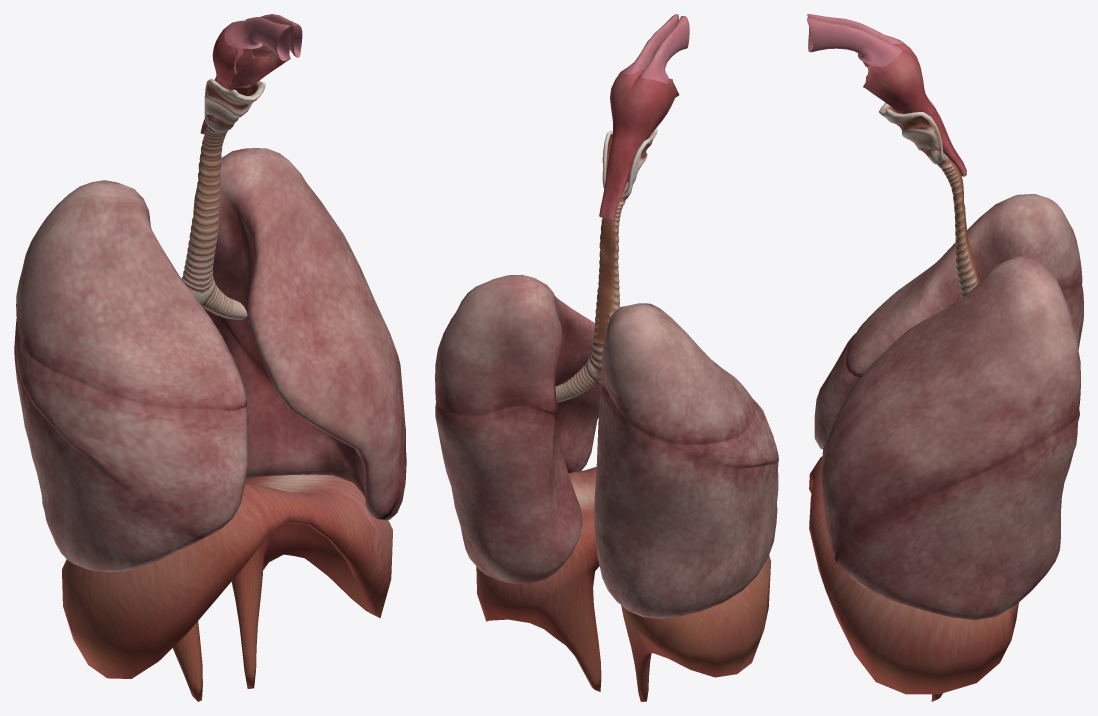
File: A Female_Respiratory_System.fbx
The picture shows the model from 3 angles, left to right: view 1: azimuth 30°, elevation 25°; view 2: azimuth 150°, elevation 25°; view 3: azimuth 270°, elevation 25°; orthographic projection. The views are drawn at different scales.
Parts seen in each view (by area): view 1: Left_Superior_Lobe, Right_Superior_Lobe, Diaphragm, Middle_Lobe, Right_Inferior_Lobe, Left_Inferior_Lobe, Teacheal, Pharynx, Right_Nasal, Left_Main_Bronchus, Lingula, Left_Nasal (+1 smaller); view 2: Right_Inferior_Lobe, Left_Inferior_Lobe, Left_Superior_Lobe, Diaphragm, Right_Superior_Lobe, Pharynx, Middle_Lobe, Teacheal, Larynx, Right_Nasal, Left_Nasal, Left_Main_Bronchus; view 3: Left_Superior_Lobe, Left_Inferior_Lobe, Diaphragm, Right_Superior_Lobe, Pharynx, Left_Nasal, Middle_Lobe, Teacheal, Right_Inferior_Lobe, Thyroid_Cartilage, Larynx, Right_Nasal (+1 smaller).
Part boxes in pixels (bbox=[...]): Left_Superior_Lobe: bbox=[193, 148, 405, 500]; Right_Superior_Lobe: bbox=[16, 180, 246, 410]; Diaphragm: bbox=[62, 474, 392, 701]; Middle_Lobe: bbox=[15, 319, 248, 537]; Right_Inferior_Lobe: bbox=[14, 331, 203, 572]; Left_Inferior_Lobe: bbox=[203, 308, 406, 520]; Teacheal: bbox=[181, 125, 227, 293]; Pharynx: bbox=[212, 19, 290, 89]; Right_Nasal: bbox=[224, 17, 290, 60]; Left_Main_Bronchus: bbox=[202, 284, 247, 319]; Lingula: bbox=[364, 478, 396, 518]; Left_Nasal: bbox=[247, 14, 302, 57]; Right_Inferior_Lobe: bbox=[593, 386, 778, 618]; Left_Inferior_Lobe: bbox=[435, 403, 582, 583]; Left_Superior_Lobe: bbox=[435, 274, 602, 464]; Diaphragm: bbox=[476, 467, 771, 701]; Right_Superior_Lobe: bbox=[601, 303, 756, 444]; Pharynx: bbox=[610, 70, 679, 149]; Middle_Lobe: bbox=[671, 399, 778, 467]; Teacheal: bbox=[589, 201, 625, 371]; Larynx: bbox=[599, 144, 639, 219]; Right_Nasal: bbox=[640, 16, 689, 84]; Left_Nasal: bbox=[621, 14, 678, 74]; Left_Main_Bronchus: bbox=[555, 362, 599, 402]; Left_Superior_Lobe: bbox=[821, 256, 1080, 554]; Left_Inferior_Lobe: bbox=[836, 409, 1079, 620]; Diaphragm: bbox=[809, 456, 1018, 701]; Right_Superior_Lobe: bbox=[846, 194, 1082, 376]; Pharynx: bbox=[862, 42, 935, 115]; Left_Nasal: bbox=[807, 17, 902, 67]; Middle_Lobe: bbox=[814, 333, 861, 449]; Teacheal: bbox=[937, 161, 979, 296]; Right_Inferior_Lobe: bbox=[1062, 285, 1083, 349]; Thyroid_Cartilage: bbox=[902, 110, 942, 150]; Larynx: bbox=[921, 108, 966, 176]; Right_Nasal: bbox=[807, 14, 902, 44].
Size of the model in its own units: 26.45 by 53.34 by 19.87.
Materials: 2 (2 with a texture image).
